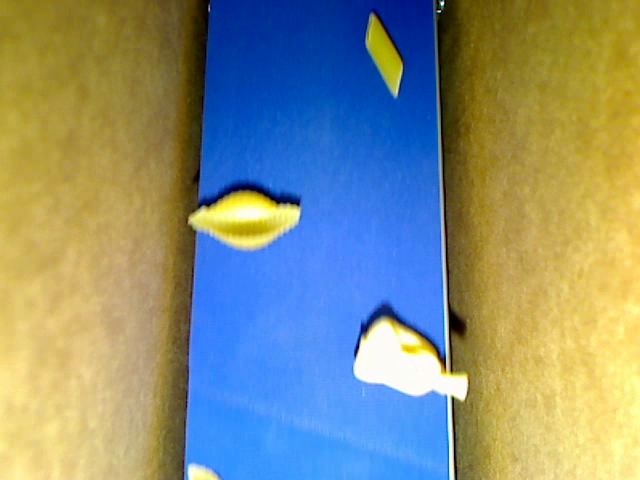penne: (364, 12, 406, 98)
shell: (188, 188, 301, 252)
tortellini: (352, 315, 469, 401)
